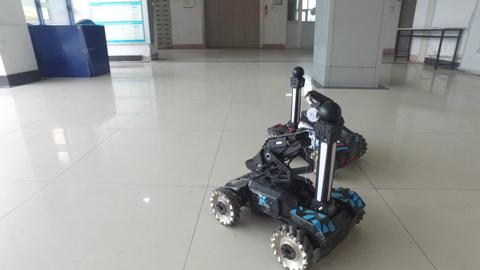chariot: (208, 120, 367, 270), (263, 62, 371, 169)
